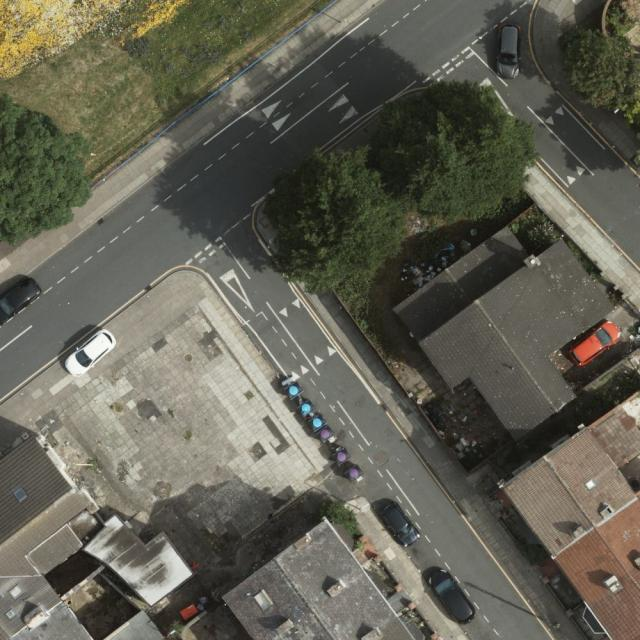roof: (392, 226, 616, 444), (0, 436, 194, 640), (502, 390, 640, 640), (223, 521, 416, 640), (104, 608, 165, 640)
skylight: (253, 588, 275, 613), (7, 582, 27, 601), (13, 486, 29, 504), (4, 607, 17, 621), (583, 478, 596, 492)
